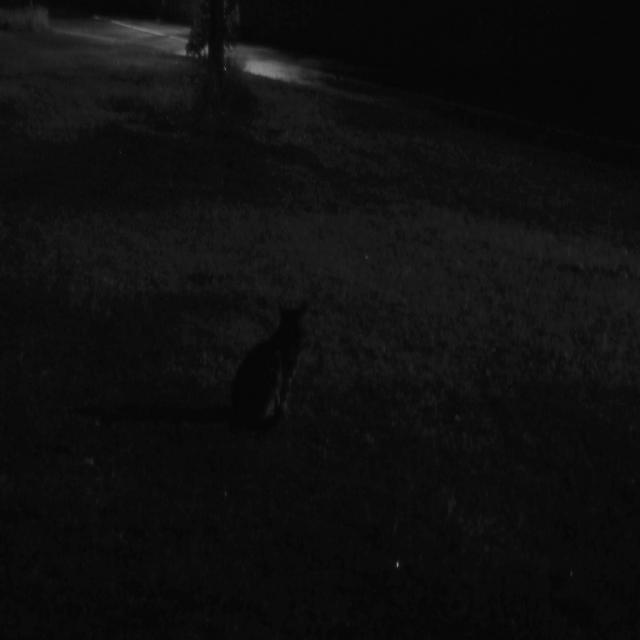Cat: (231, 281, 315, 443)
